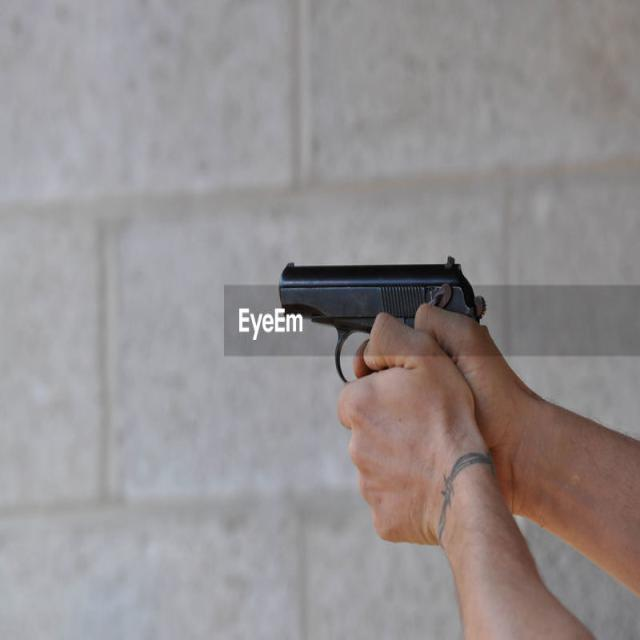HandGun: (279, 257, 486, 383)
